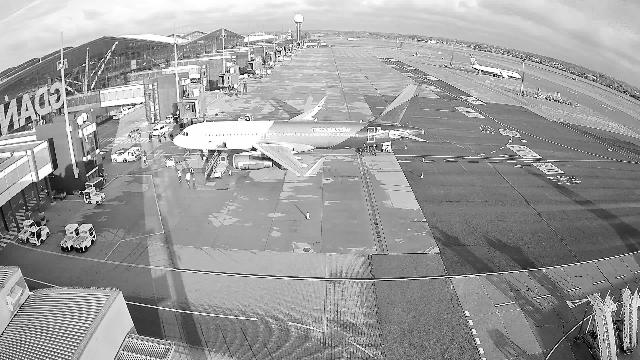Aircraft: (173, 84, 428, 176), (469, 53, 522, 79)
Airport_Tractor: (72, 224, 97, 253), (60, 224, 80, 252), (28, 226, 50, 246), (83, 186, 106, 205), (18, 220, 37, 243), (238, 114, 254, 121)
Baggage_Trolley: (85, 176, 104, 192), (52, 188, 66, 200)
Conveyor_Belt: (204, 151, 230, 178), (202, 106, 223, 116)
Ground_Crew: (190, 167, 195, 180), (185, 172, 190, 184), (177, 169, 181, 182), (143, 155, 148, 165)
Passengers: (129, 133, 133, 142), (149, 133, 152, 143), (158, 133, 161, 143), (170, 133, 173, 142), (163, 134, 166, 142)
Pushback_Tug: (111, 146, 142, 162)
